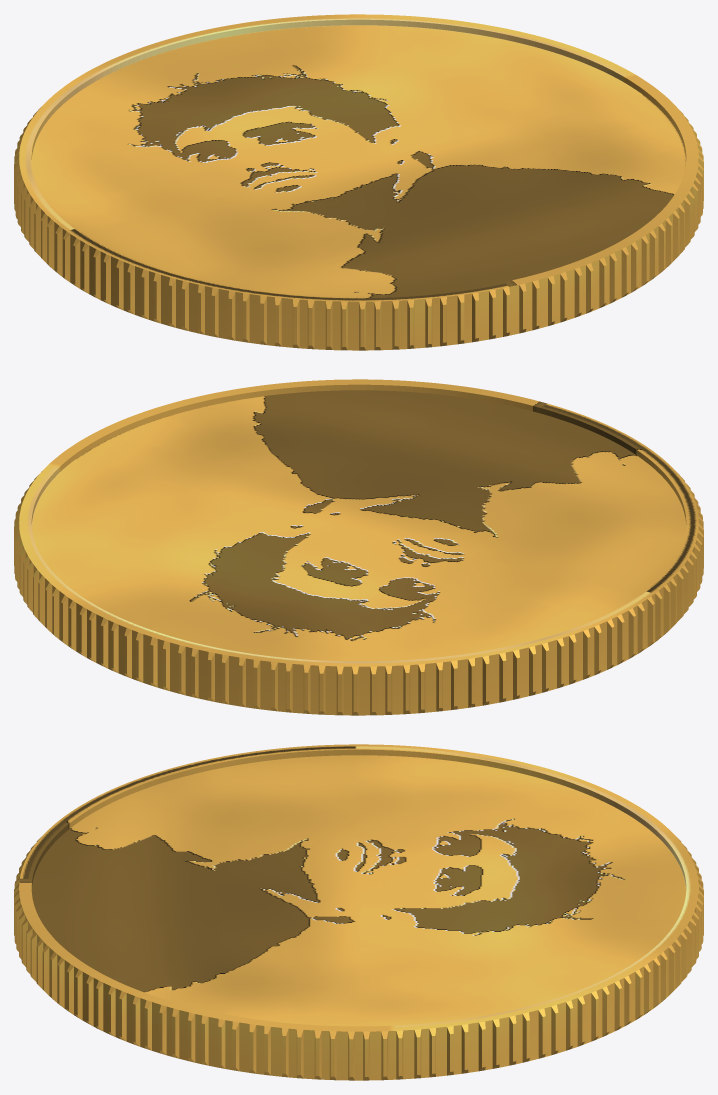
File: moneda2.glb
3 renders of one model, top to bottom at view 1: azimuth 30°, elevation 25°; view 2: azimuth 150°, elevation 25°; view 3: azimuth 270°, elevation 25°, orthographic.
Parts seen in each view (by area): view 1: Cylinder; view 2: Cylinder; view 3: Cylinder.
Boxes of the visible parts, box(x1,y1,x2,y2) form: Cylinder: box(14, 14, 703, 350); Cylinder: box(14, 379, 703, 715); Cylinder: box(14, 744, 703, 1080).
Size of the model in its own units: 2.03 by 0.1584 by 2.03.
1 material, 1 textured.
